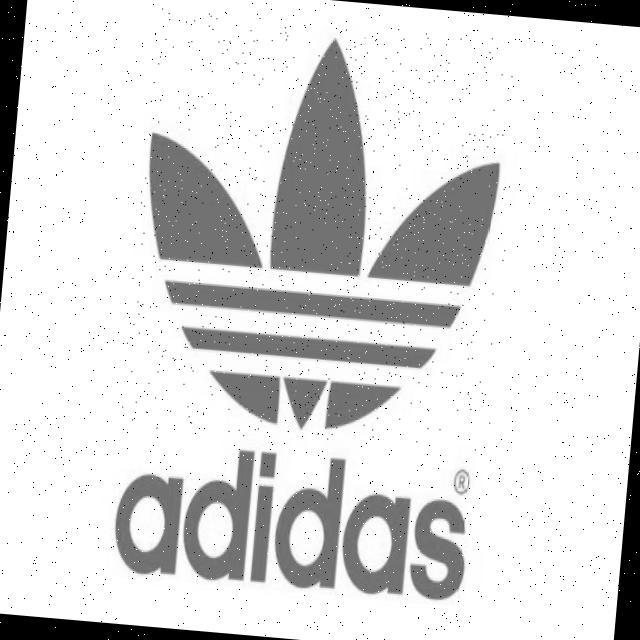Adidas: (120, 5, 524, 458)
